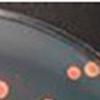pink: (82, 58, 100, 80), (66, 64, 84, 84), (0, 75, 11, 100), (42, 96, 55, 100)
